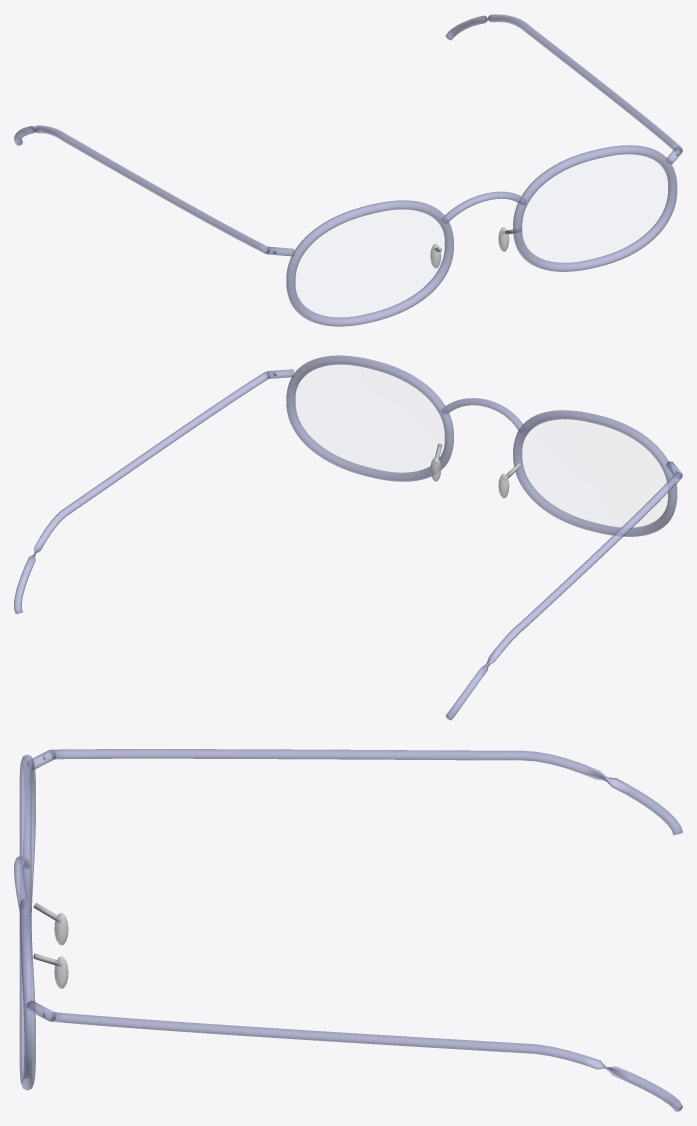
File: tim-60-v1.glb
The picture shows the model from 3 angles, top to bottom: view 1: azimuth 30°, elevation 25°; view 2: azimuth 150°, elevation 25°; view 3: azimuth 270°, elevation 25°; orthographic projection. The views are drawn at different scales.
Parts seen in each view (by area): view 1: rim_right, rim_left, temple_right, temple_left, bridge; view 2: rim_left, rim_right, temple_left, temple_right, bridge; view 3: temple_right, temple_left, rim_left, rim_right, bridge.
Boxes of the visible parts, left/top/right/bottom form: rim_right: left=286, top=200, right=453, bottom=326; rim_left: left=513, top=145, right=677, bottom=271; temple_right: left=14, top=125, right=270, bottom=253; temple_left: left=445, top=14, right=682, bottom=152; bridge: left=441, top=191, right=526, bottom=224; rim_left: left=286, top=355, right=453, bottom=481; rim_right: left=513, top=410, right=677, bottom=536; temple_left: left=14, top=371, right=270, bottom=614; temple_right: left=445, top=472, right=682, bottom=720; bridge: left=441, top=398, right=526, bottom=433; temple_right: left=52, top=749, right=682, bottom=835; temple_left: left=52, top=1012, right=682, bottom=1111; rim_left: left=19, top=898, right=35, bottom=1090; rim_right: left=19, top=754, right=35, bottom=911; bridge: left=14, top=855, right=30, bottom=910.
Bounding box in the file's own units: 0.1573 × 0.0379 × 0.1497.
